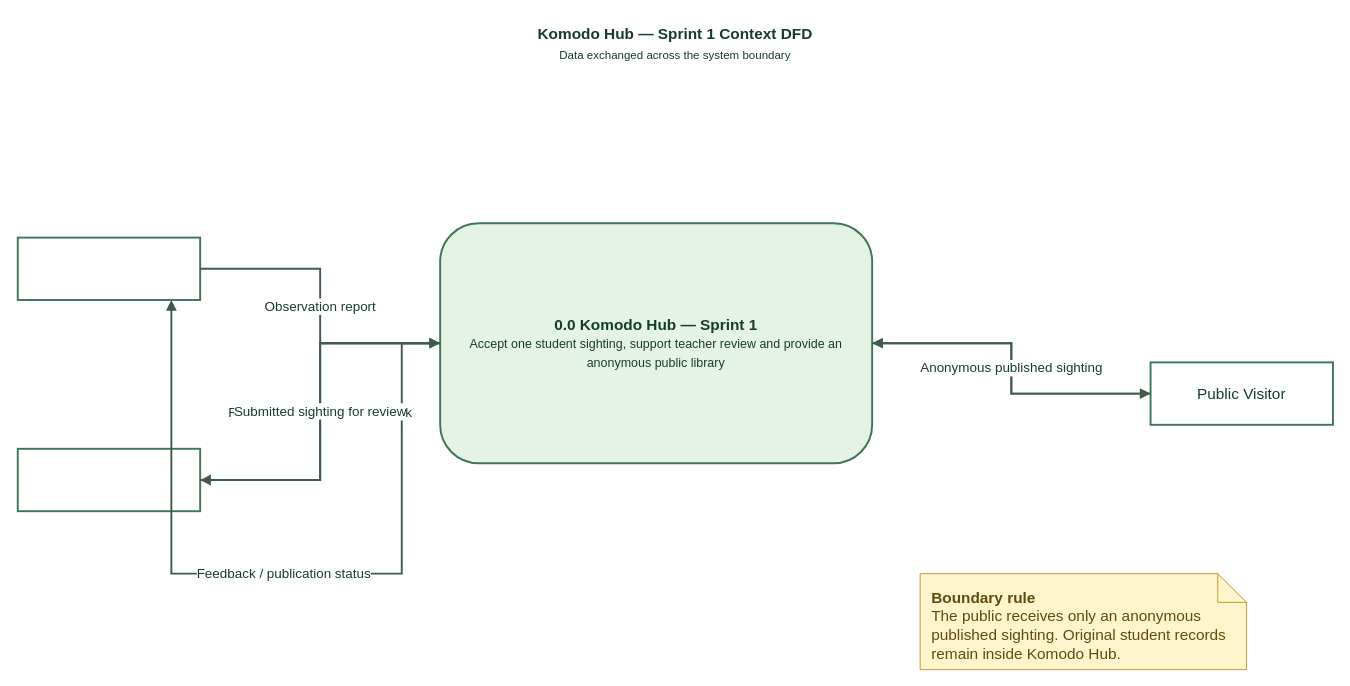
The diagram is 1350 pixels wide and 686 high, and some of its shapes have lost their labels. Each missing label, with the centre of its shape:
"Student" goes at pixel 108 268.
"Teacher" goes at pixel 108 479.
